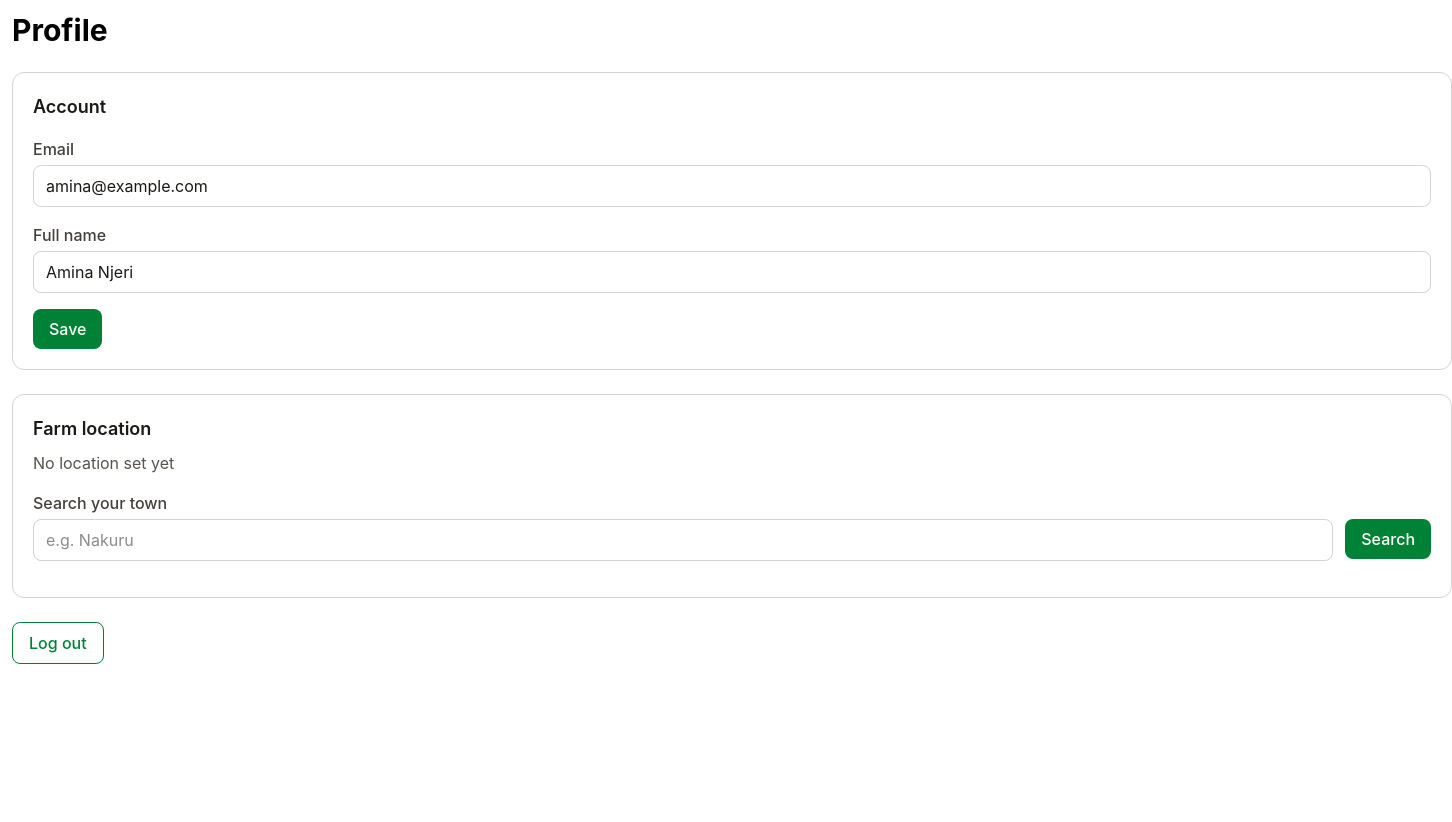
Profile page › needs at least 2 letters before searching
In the field labelled "Search your town": (683, 540) [33,519,1333,561], type "N"
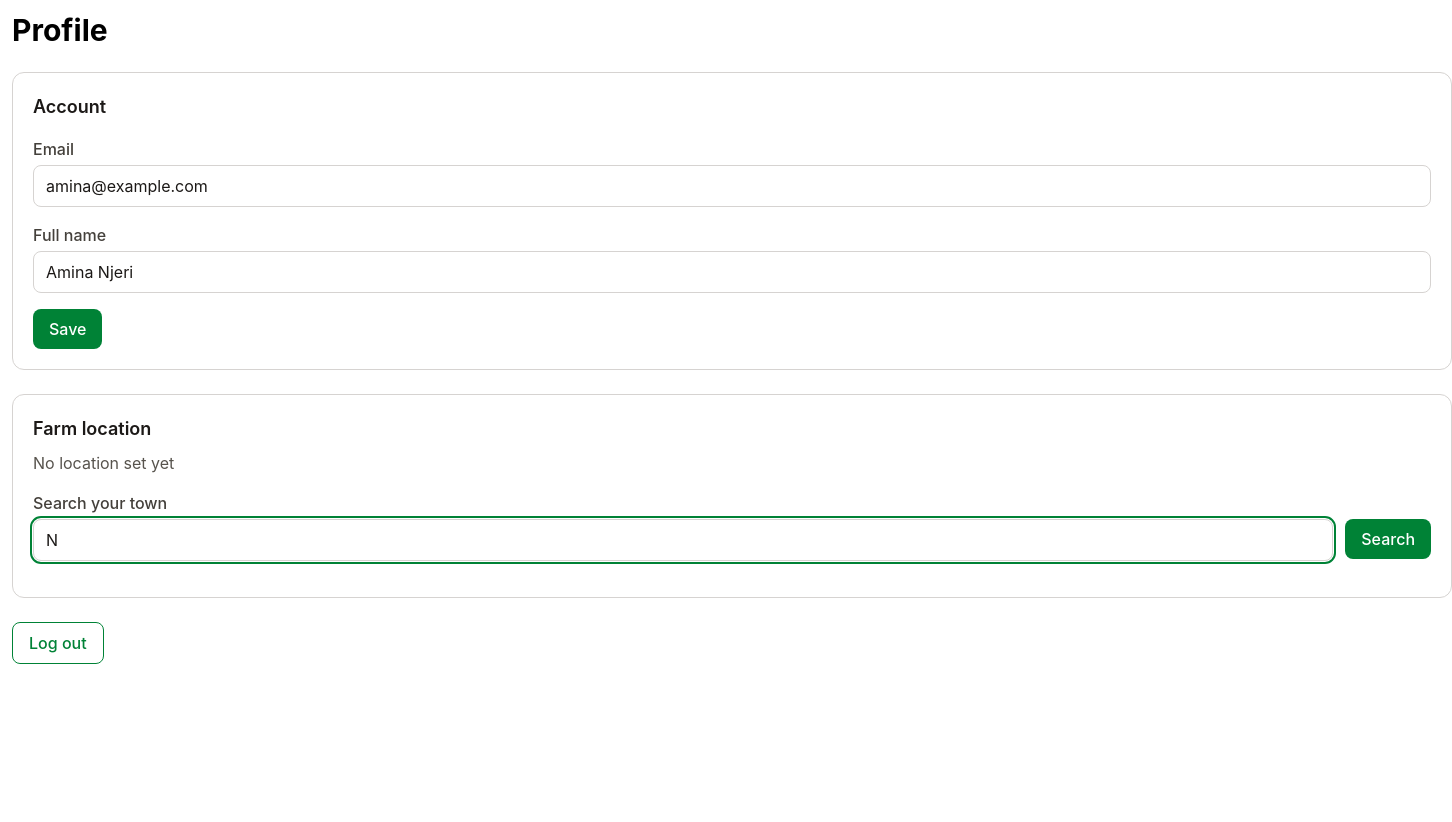
Click the button "Search": (1388, 539) [1345,519,1431,559]
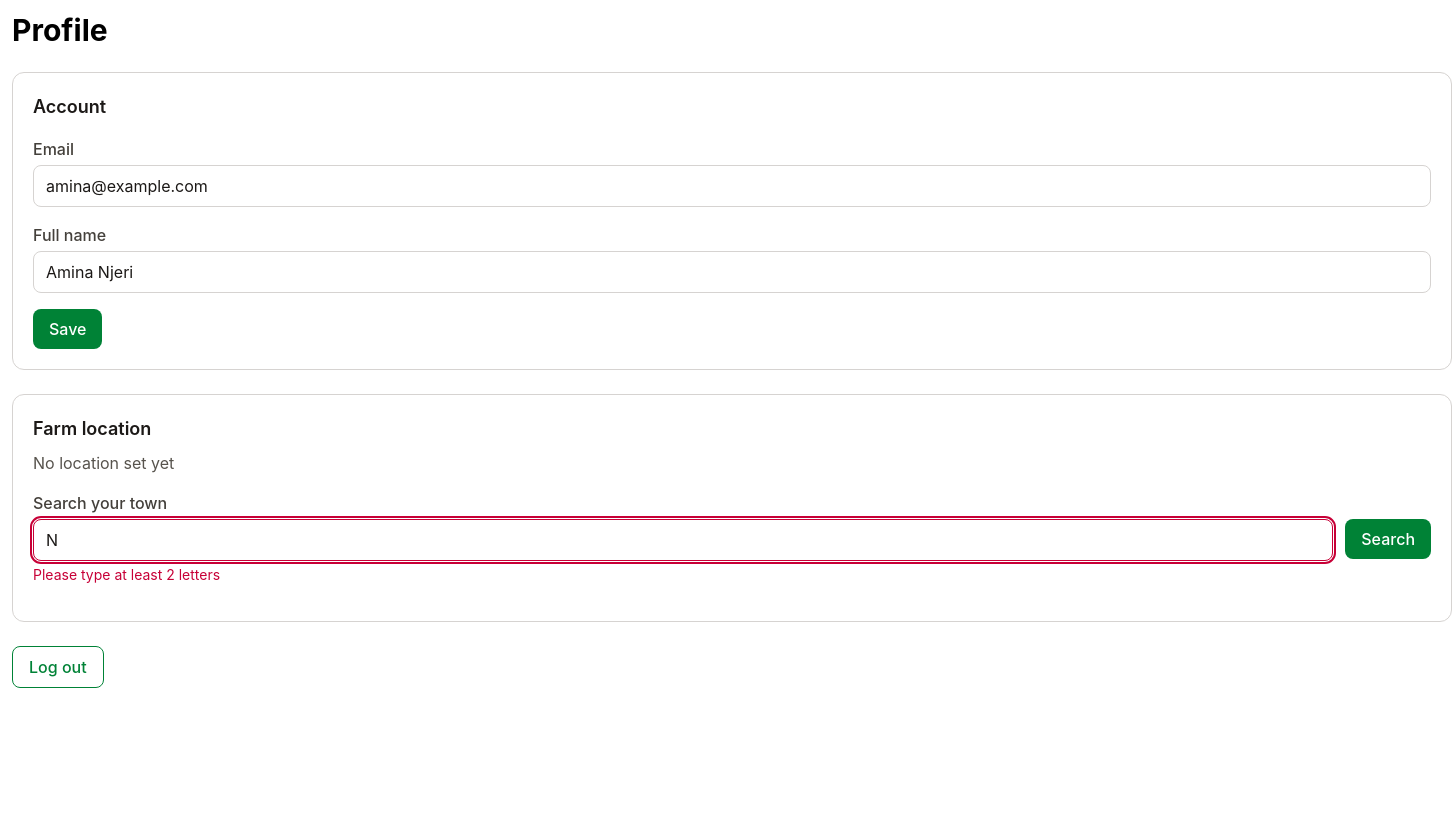
Check: the text "Please type at least 2 letters" is shown, box [33,566,220,583]
